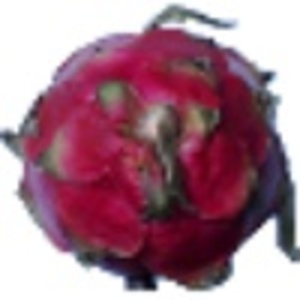pitaia: (1, 2, 300, 294)
